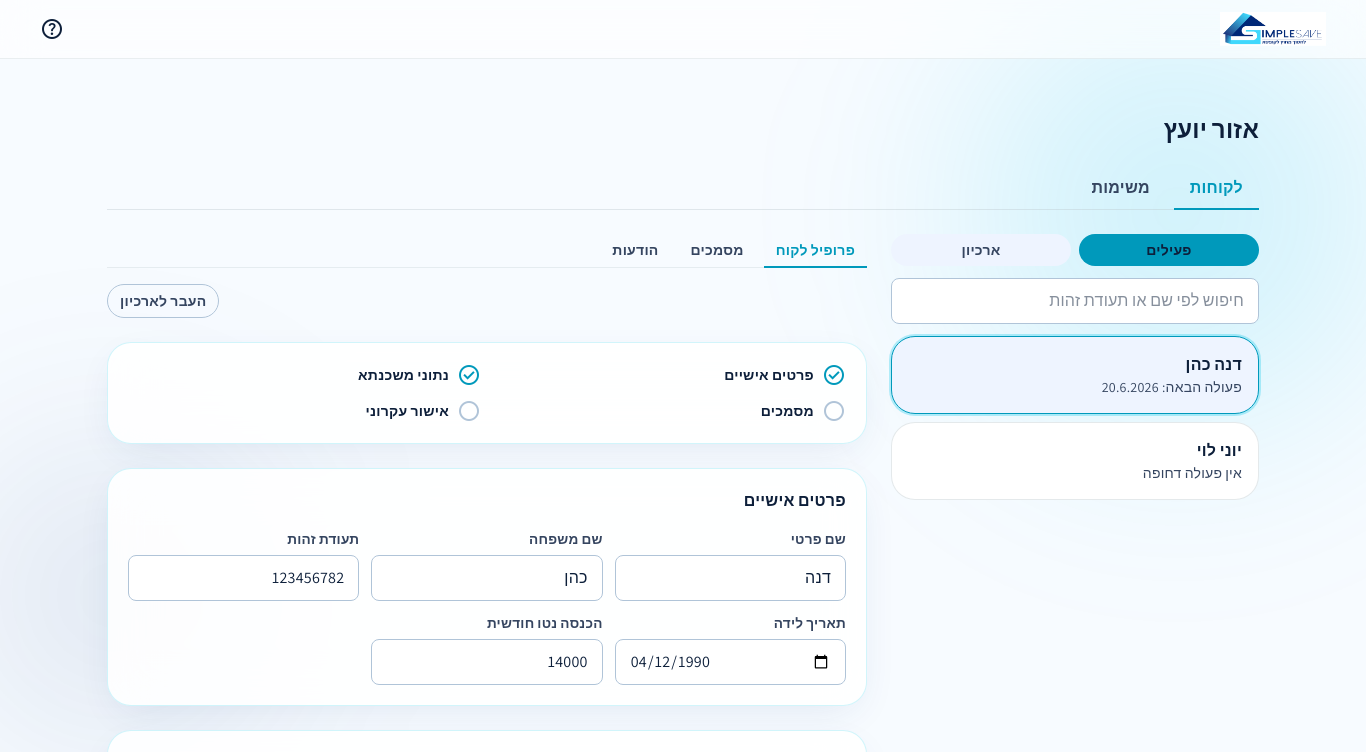
Test: AdvisorScreen › approving a client’s last pending document does not swap the client being viewed
Step 1. Click the button "מסמכים" → (717, 251), box [678,234,756,268]
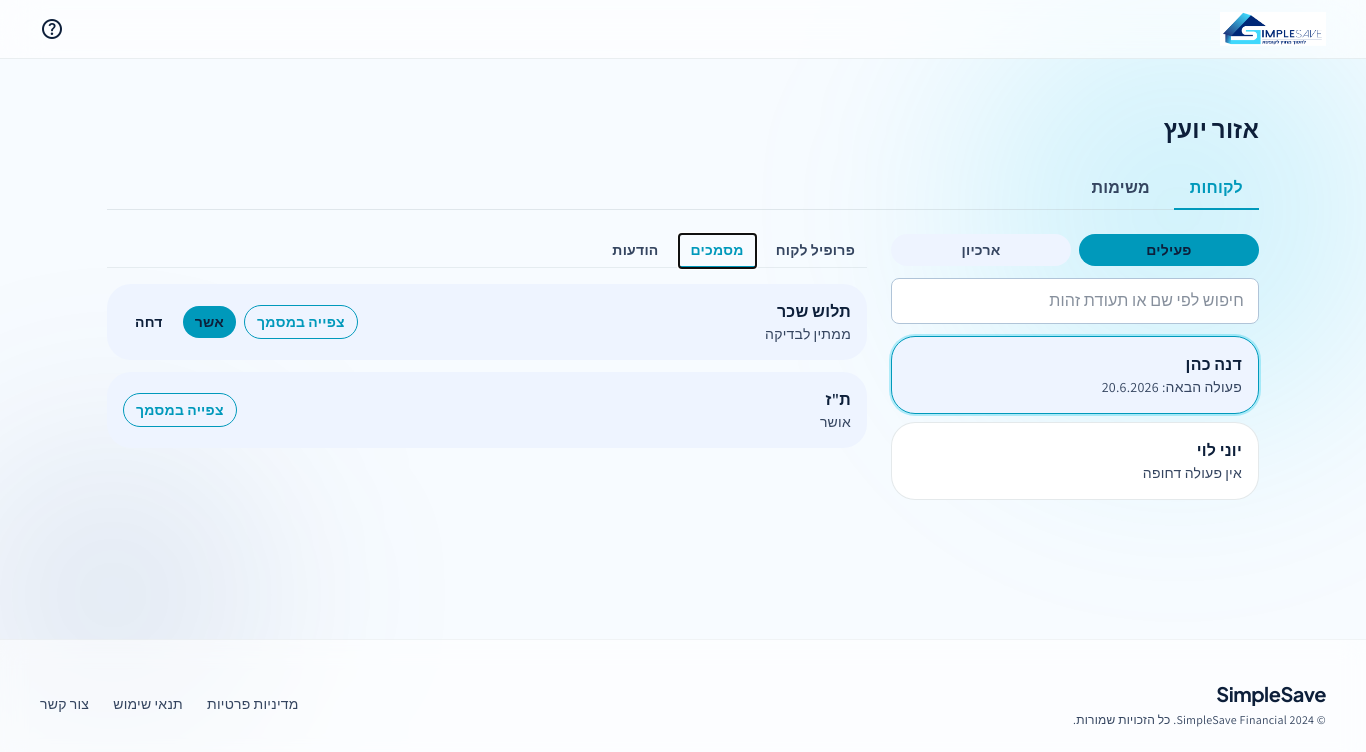
Step 2. Click the button "אשר" → (209, 322), box [183,306,236,338]
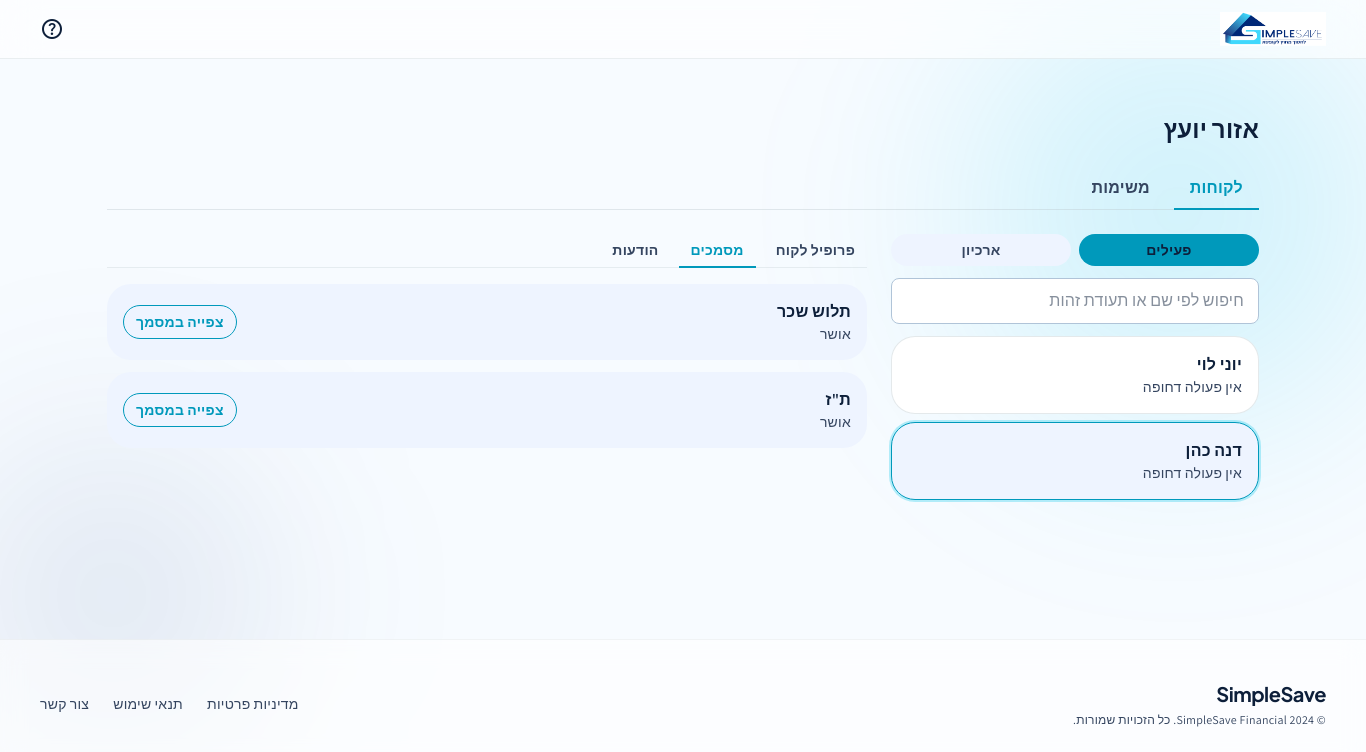
Step 3. Click the button "פרופיל לקוח" → (815, 251), box [764,234,867,268]
(page scrolled)
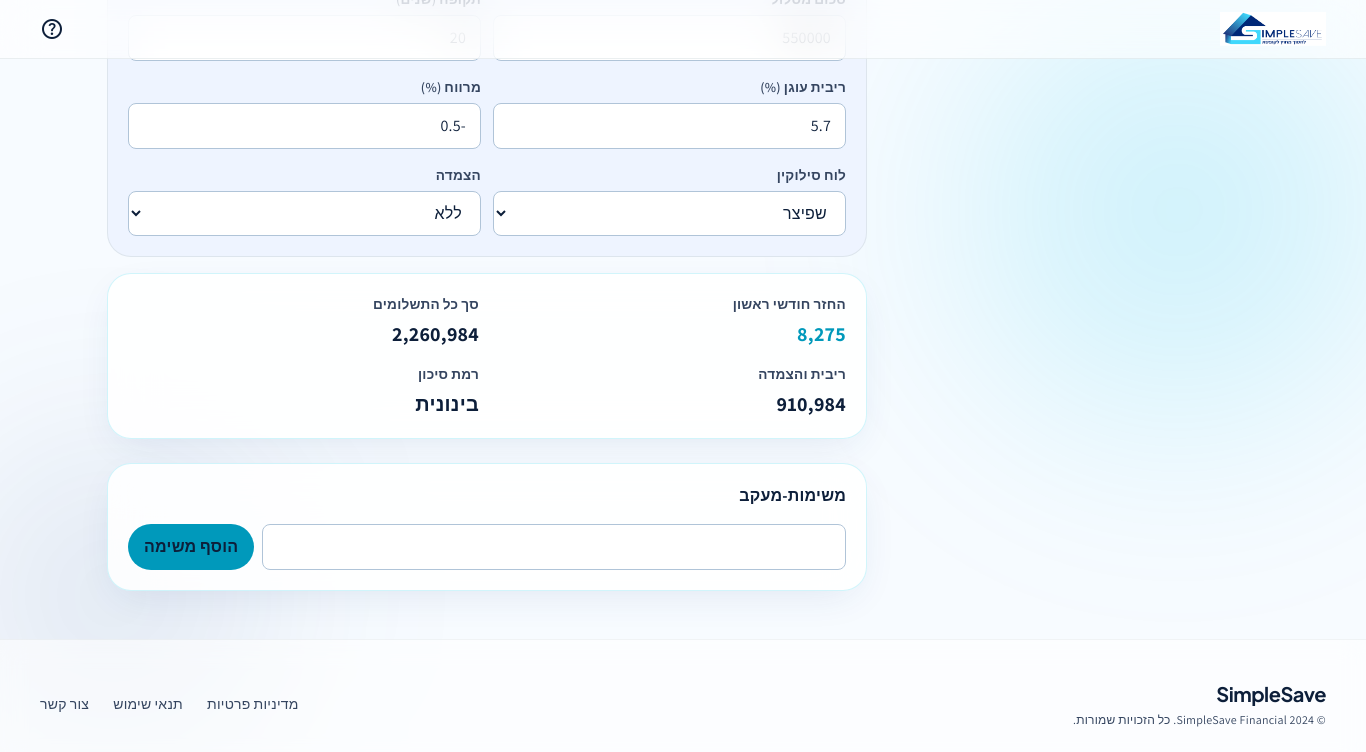
Check: the element with test id "tasks-group-client-dana" is shown, box [107,463,867,591]
